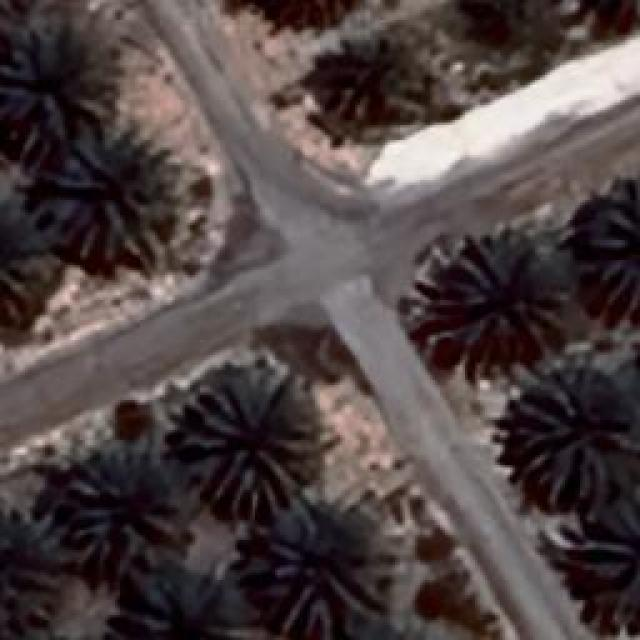PalmTree: (180, 382, 315, 520), (255, 512, 390, 638), (0, 8, 112, 146), (45, 140, 175, 258), (510, 370, 622, 500), (448, 235, 568, 355), (67, 447, 185, 565), (117, 567, 252, 640), (0, 505, 70, 640), (317, 38, 415, 122), (438, 0, 573, 57), (582, 182, 638, 310), (582, 490, 638, 595), (0, 208, 45, 332), (234, 0, 361, 43), (342, 611, 469, 640), (572, 0, 640, 40)
